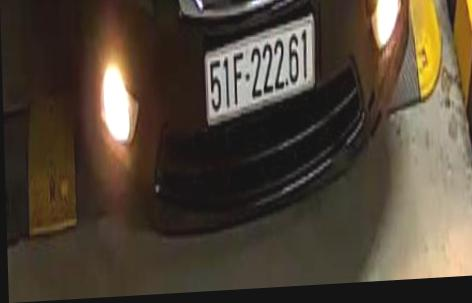License_Plate: (197, 17, 319, 125)
